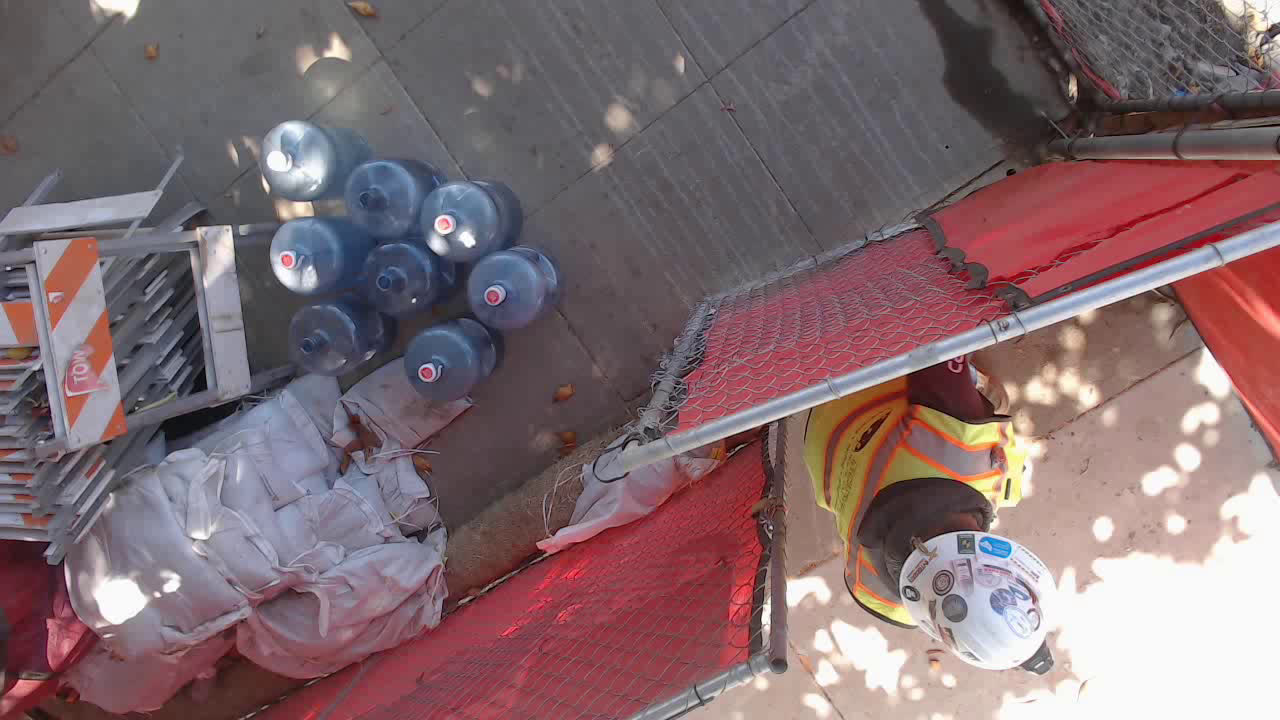hardhat: (900, 529, 1058, 675)
safetyvest: (804, 378, 1030, 630)
